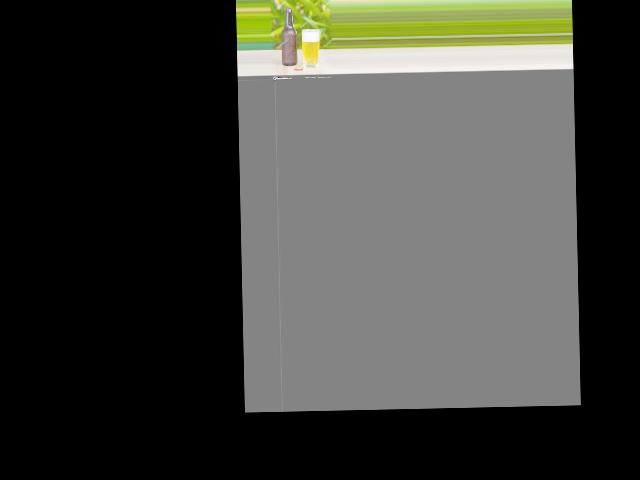beer: (281, 7, 297, 66)
